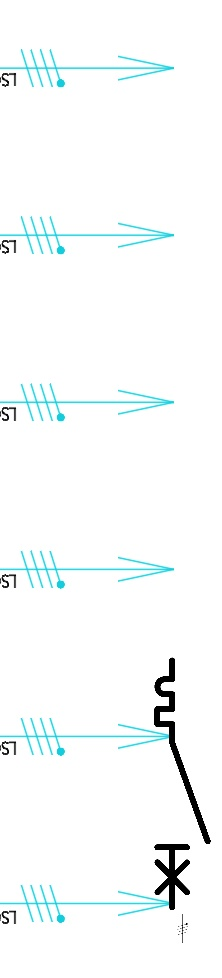interruptor_termomagnetico: (151, 654, 214, 913)
